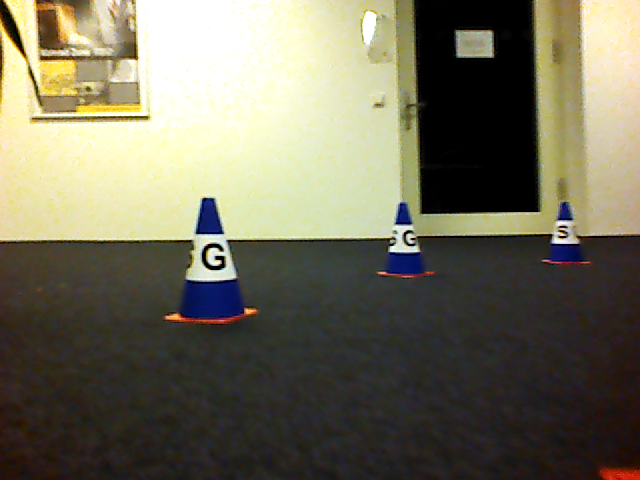bluecone: (164, 195, 257, 328), (377, 201, 437, 281), (541, 201, 594, 267)
